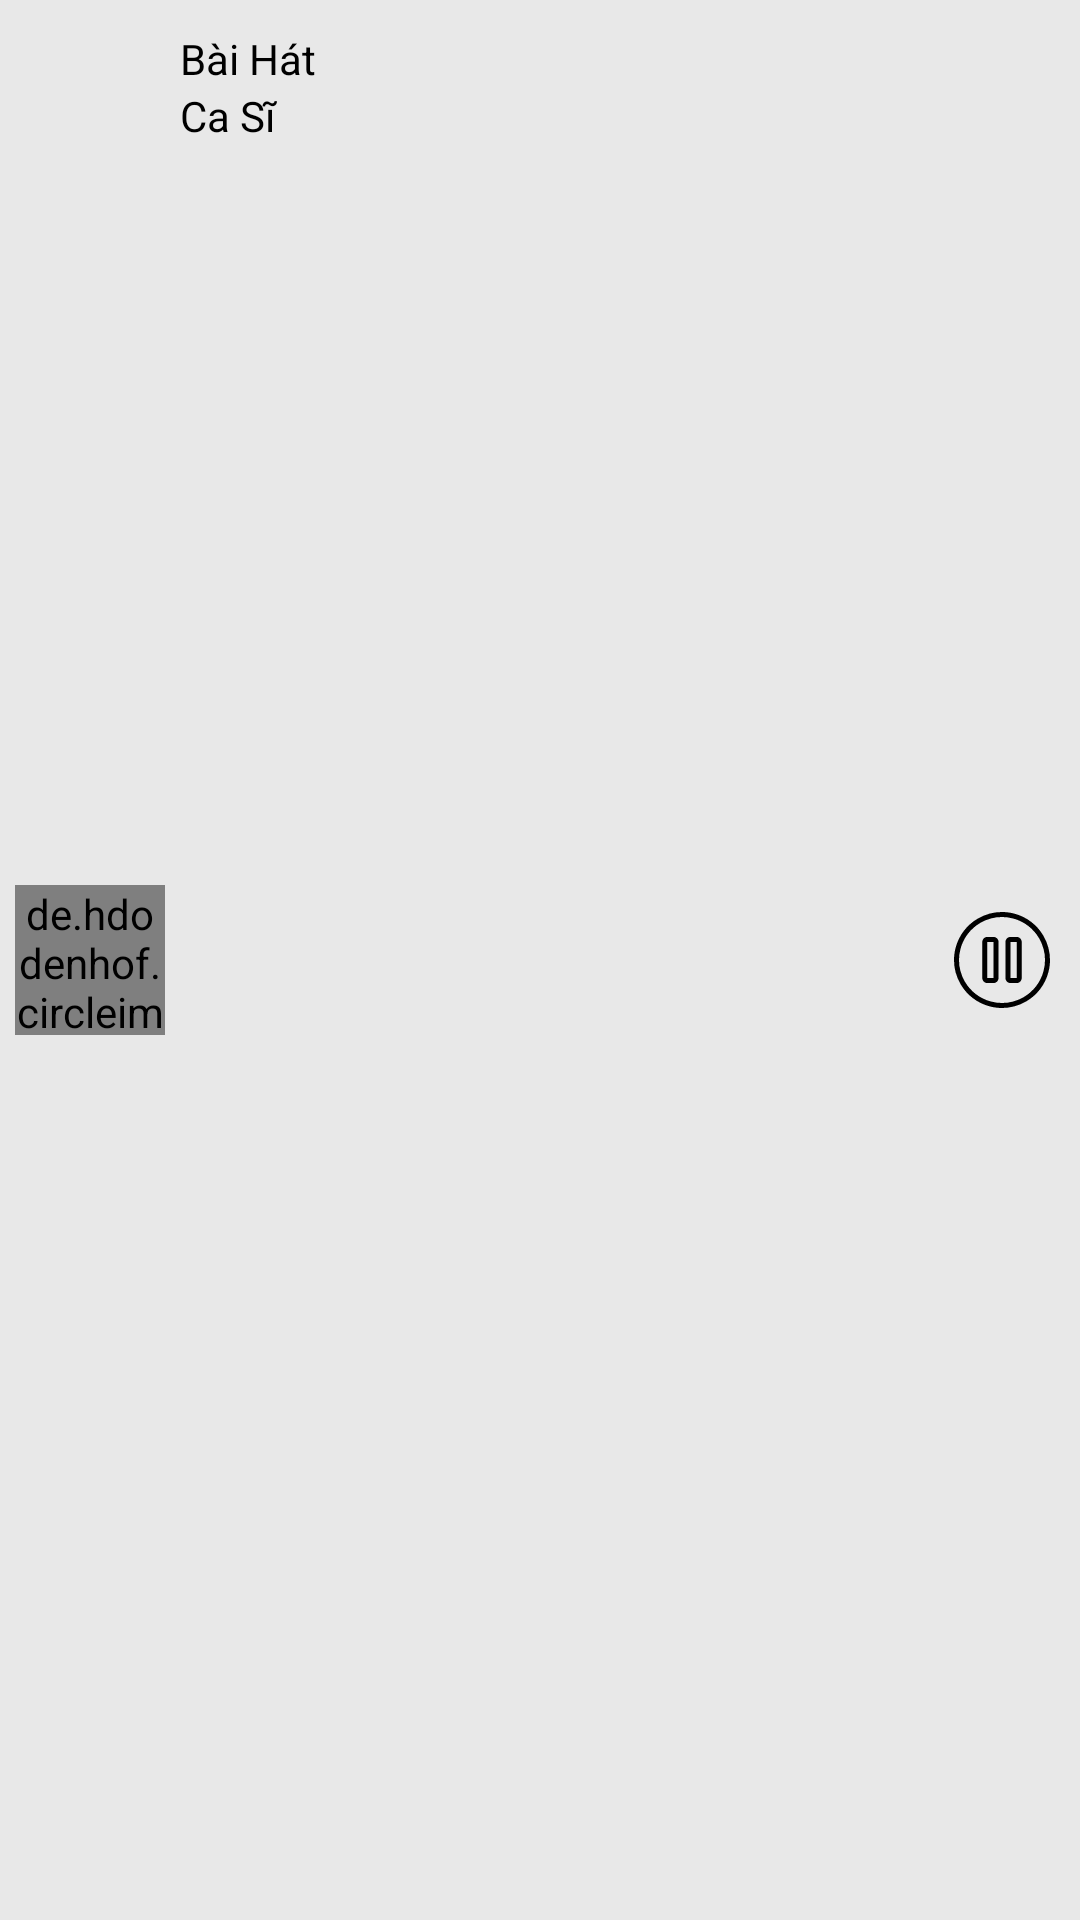

Point at icon controls on the screen. Image size 1080w x 1920h, points as point (x, y).
pause: point (1002, 960)
